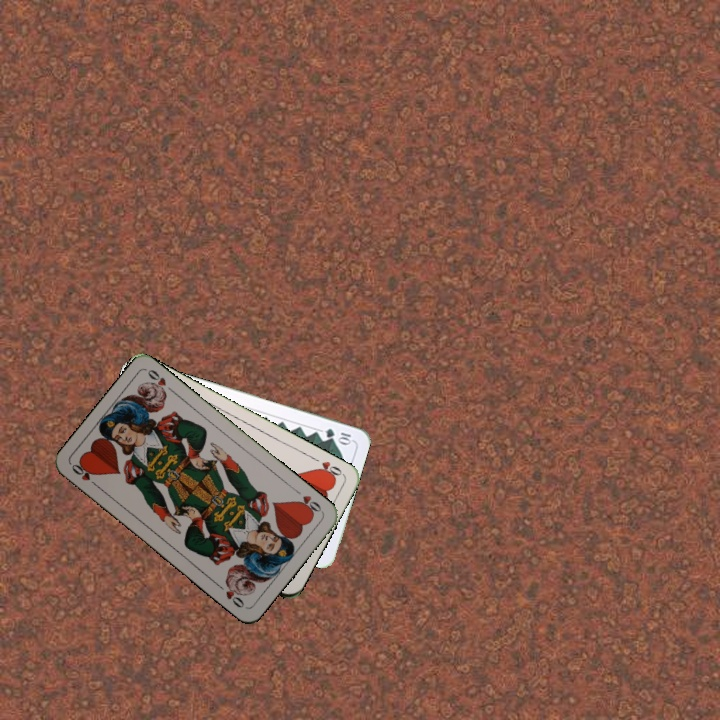G10: (321, 424, 353, 446)
HO: (308, 453, 346, 482), (290, 485, 324, 517), (67, 459, 102, 490)
